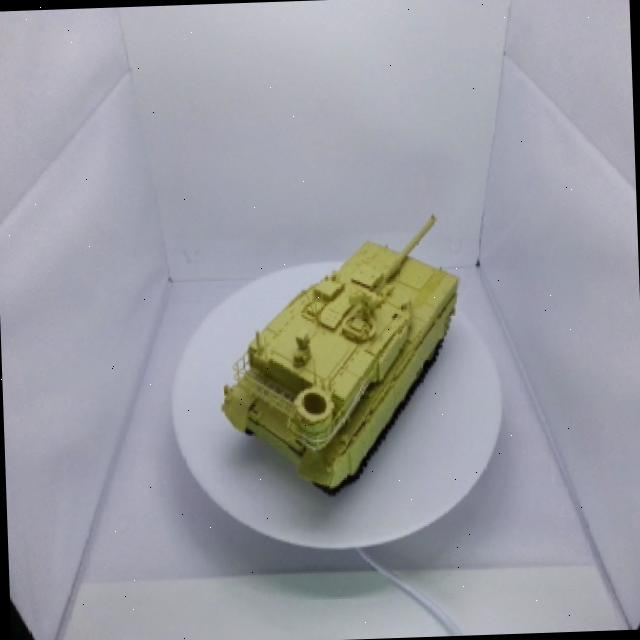korea tank: (196, 193, 503, 509)
